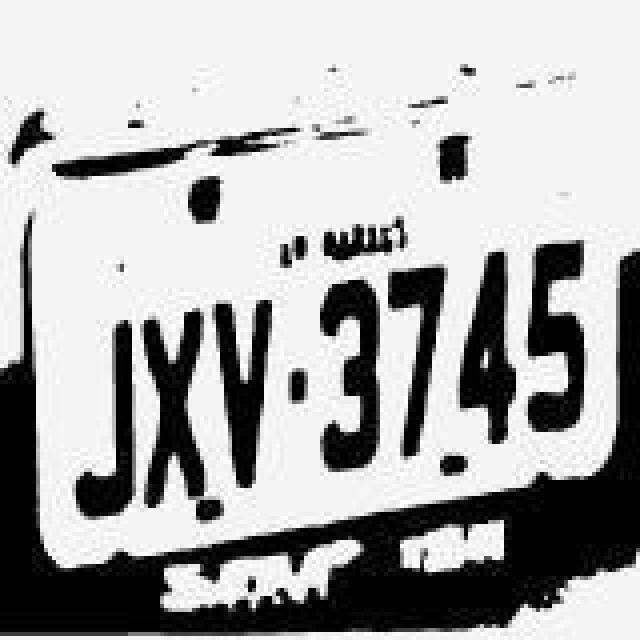3: (314, 268, 382, 484)
4: (458, 240, 526, 464)
5: (522, 224, 590, 464)
7: (384, 256, 448, 464)
J: (68, 296, 140, 520)
V: (212, 272, 276, 496)
X: (138, 278, 206, 506)
